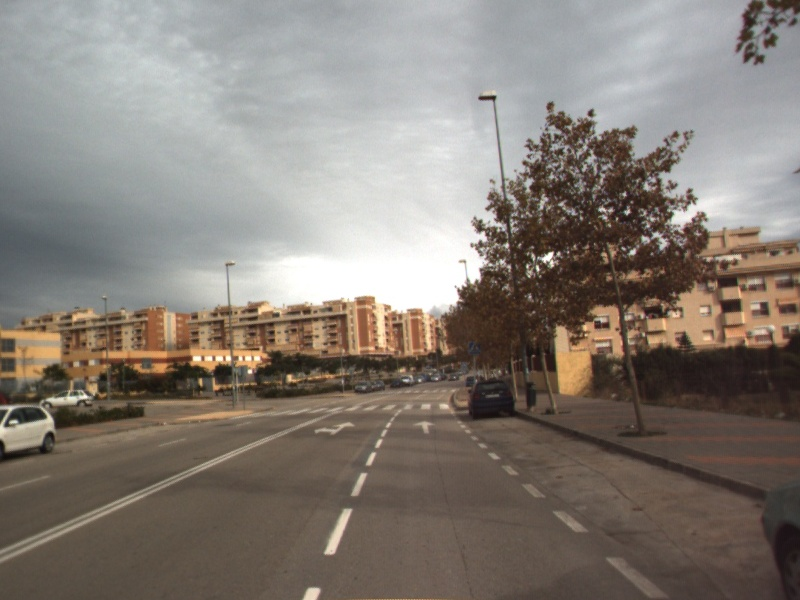STRAIGHT: (411, 419, 438, 436)
STRAIGHT_LEFT: (312, 419, 357, 437)
